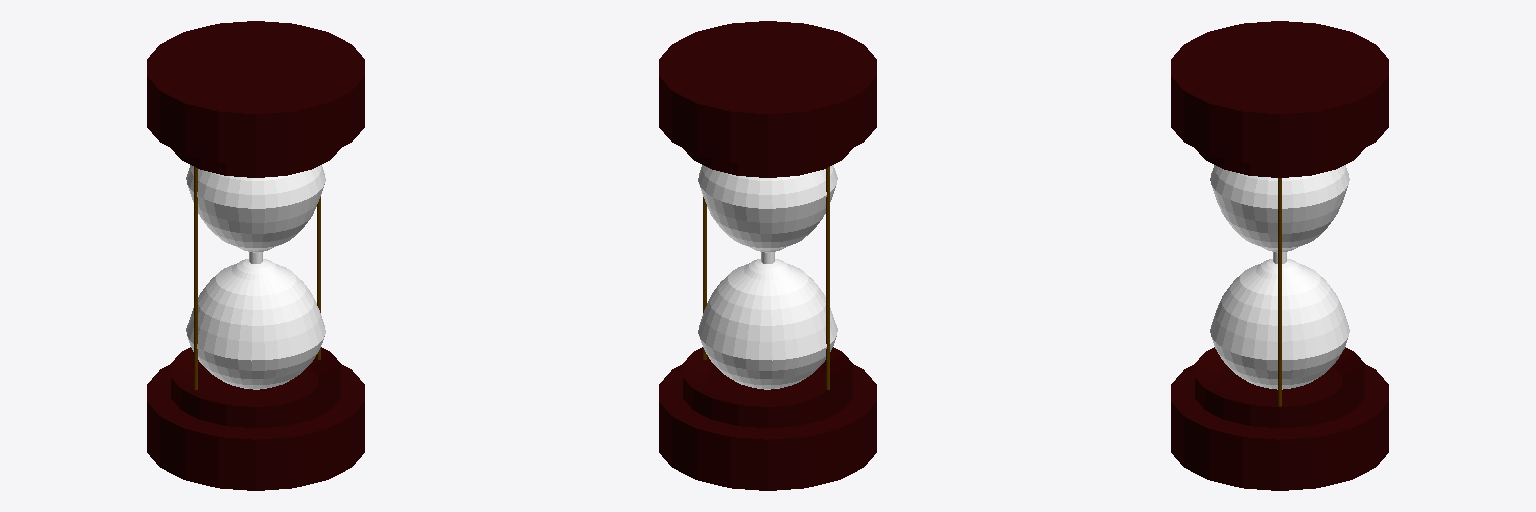
The model's file is HourGlass1.obj.
The picture shows the model from 3 angles: view 1: azimuth 30°, elevation 25°; view 2: azimuth 150°, elevation 25°; view 3: azimuth 270°, elevation 25°; orthographic projection.
Parts seen in each view (by area): view 1: Wood_Wood, HourGlass_HourGlass, Gold_Gold; view 2: Wood_Wood, HourGlass_HourGlass, Gold_Gold; view 3: Wood_Wood, HourGlass_HourGlass, Gold_Gold.
Boxes of the visible parts, box(x1,y1,x2,y2) form: Wood_Wood: box(147, 21, 364, 490); HourGlass_HourGlass: box(186, 165, 325, 389); Gold_Gold: box(194, 167, 320, 389); Wood_Wood: box(659, 21, 876, 490); HourGlass_HourGlass: box(698, 165, 837, 389); Gold_Gold: box(703, 167, 829, 389); Wood_Wood: box(1171, 21, 1388, 490); HourGlass_HourGlass: box(1210, 165, 1349, 389); Gold_Gold: box(1278, 178, 1281, 406).
Size of the model in its own units: 44.86 by 84.3 by 44.18.